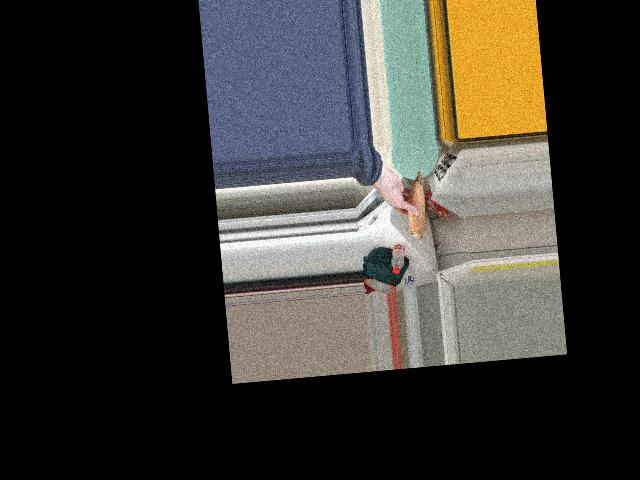sweet_potato: (400, 171, 433, 243)
